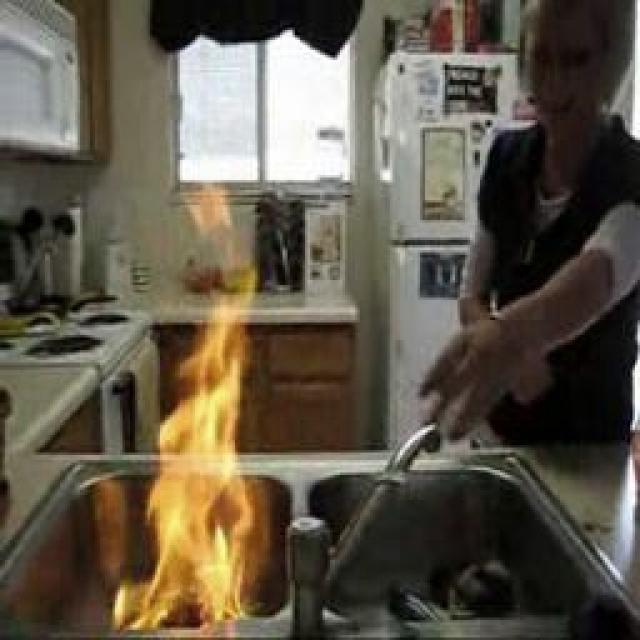Fire: (138, 294, 255, 633)
